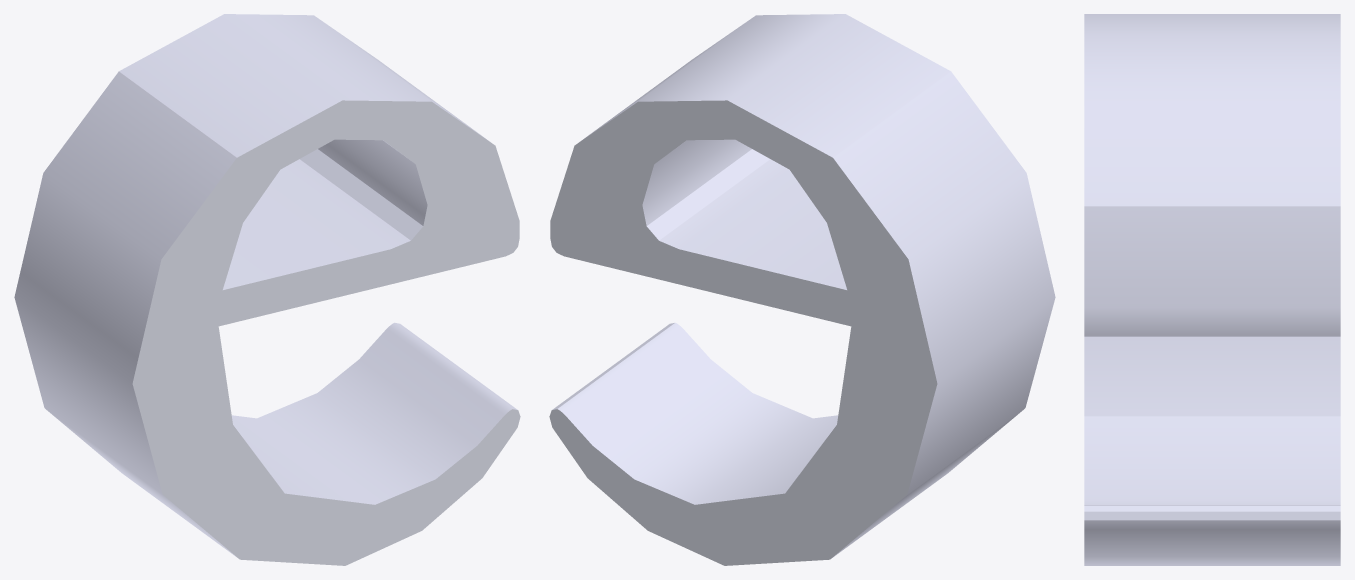
File: E_Soul_Grey.glb
The picture shows the model from 3 angles, left to right: view 1: azimuth 30°, elevation 25°; view 2: azimuth 150°, elevation 25°; view 3: azimuth 270°, elevation 25°; orthographic projection. The views are drawn at different scales.
Parts seen in each view (by area): view 1: e_Soul_Grey; view 2: e_Soul_Grey; view 3: e_Soul_Grey.
Boxes of the visible parts, x1,y1,x2,y2 form: e_Soul_Grey: [14, 14, 520, 565]; e_Soul_Grey: [549, 14, 1055, 565]; e_Soul_Grey: [1084, 14, 1340, 565].
Size of what is drawn, in the model's own units: 0.0853 by 0.098 by 0.045.
2 materials, 2 textured.
